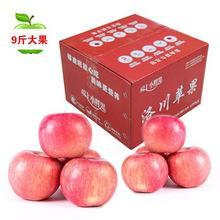apple: (59, 156, 116, 207), (7, 148, 61, 200), (37, 112, 92, 160), (120, 151, 168, 193), (166, 145, 211, 186), (141, 113, 185, 153)
